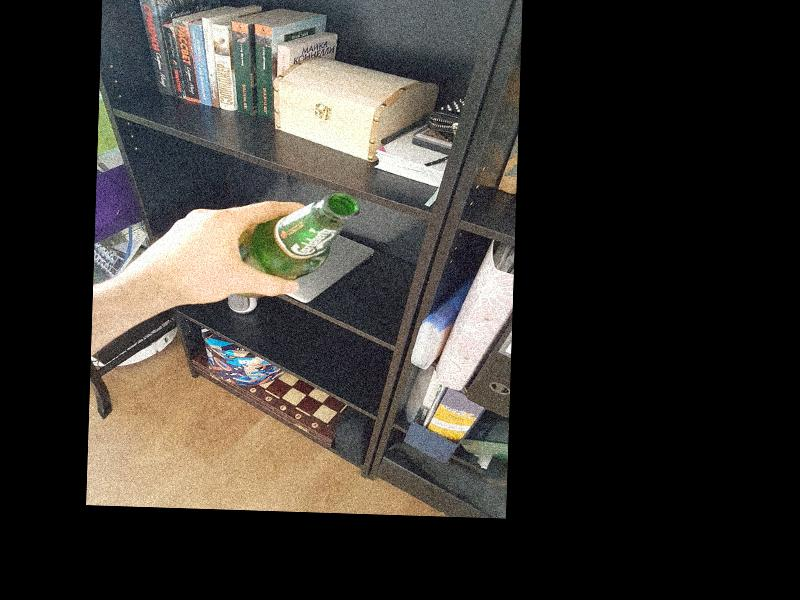Beer: (229, 190, 360, 301)
